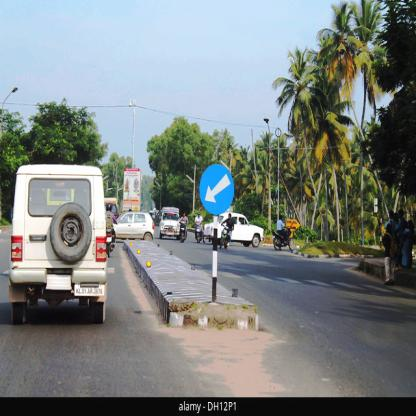Keep left: (200, 160, 240, 218)
